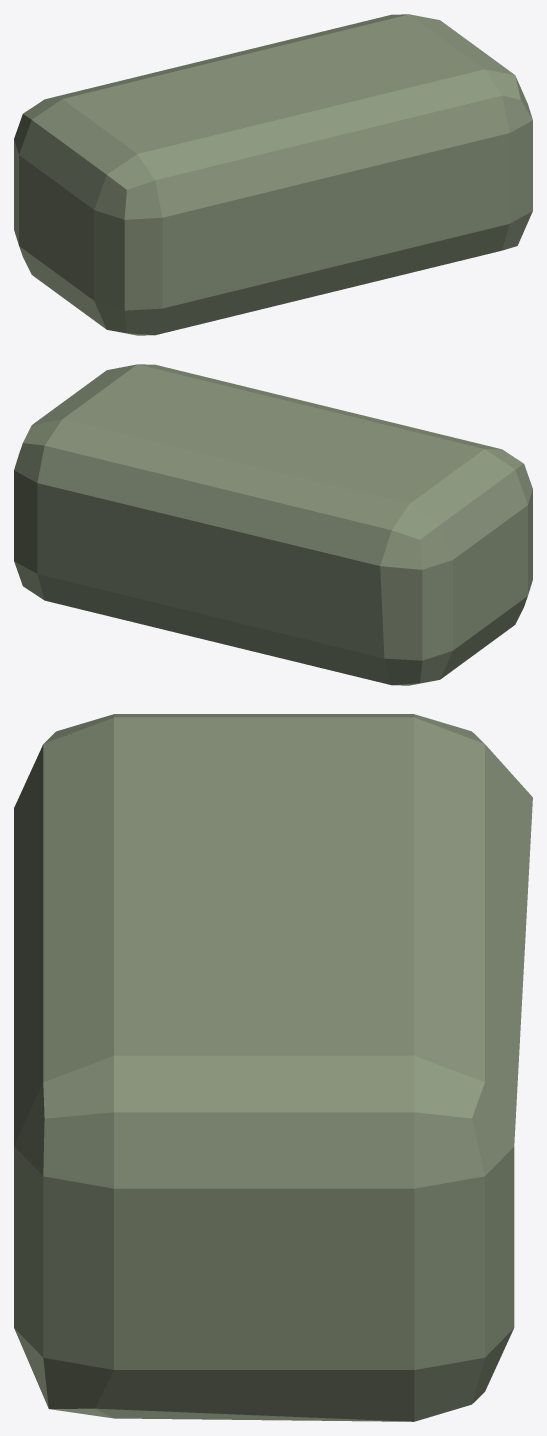
Rendered from ammo_box.glb.
The picture shows the model from 3 angles, top to bottom: view 1: azimuth 30°, elevation 25°; view 2: azimuth 150°, elevation 25°; view 3: azimuth 270°, elevation 25°; orthographic projection. The views are drawn at different scales.
Parts seen in each view (by area): view 1: ammo_box; view 2: ammo_box; view 3: ammo_box.
Part boxes in pixels (<box>): ammo_box: <box>14,14,532,335</box>; ammo_box: <box>14,364,532,685</box>; ammo_box: <box>14,714,532,1421</box>.
Bounding box in the file's own units: 0.15 × 0.06 × 0.0778.
